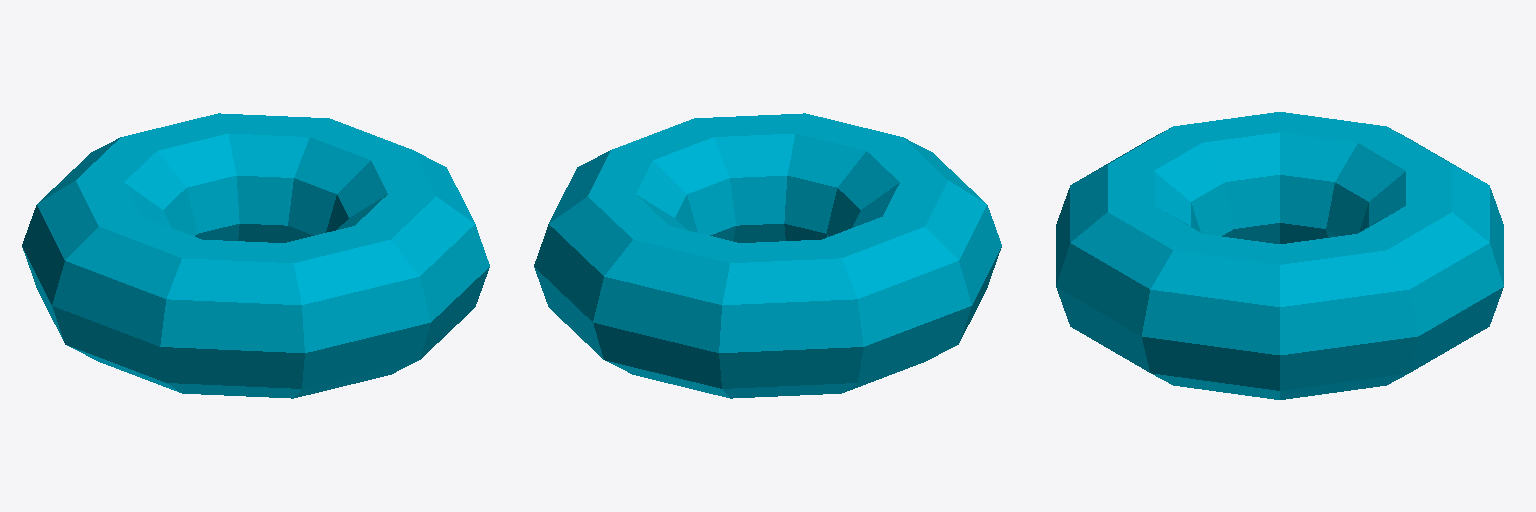
File: TronDonut.obj
3 renders of one model, left to right at view 1: azimuth 30°, elevation 25°; view 2: azimuth 150°, elevation 25°; view 3: azimuth 270°, elevation 25°, orthographic.
Visible parts, largest first — view 1: pTorus1; view 2: pTorus1; view 3: pTorus1.
Boxes of the visible parts, box(x1,y1,x2,y2) form: pTorus1: box(22, 113, 489, 398); pTorus1: box(534, 113, 1001, 398); pTorus1: box(1056, 112, 1503, 399).
Size of the model in its own units: 3 by 0.9511 by 2.85.